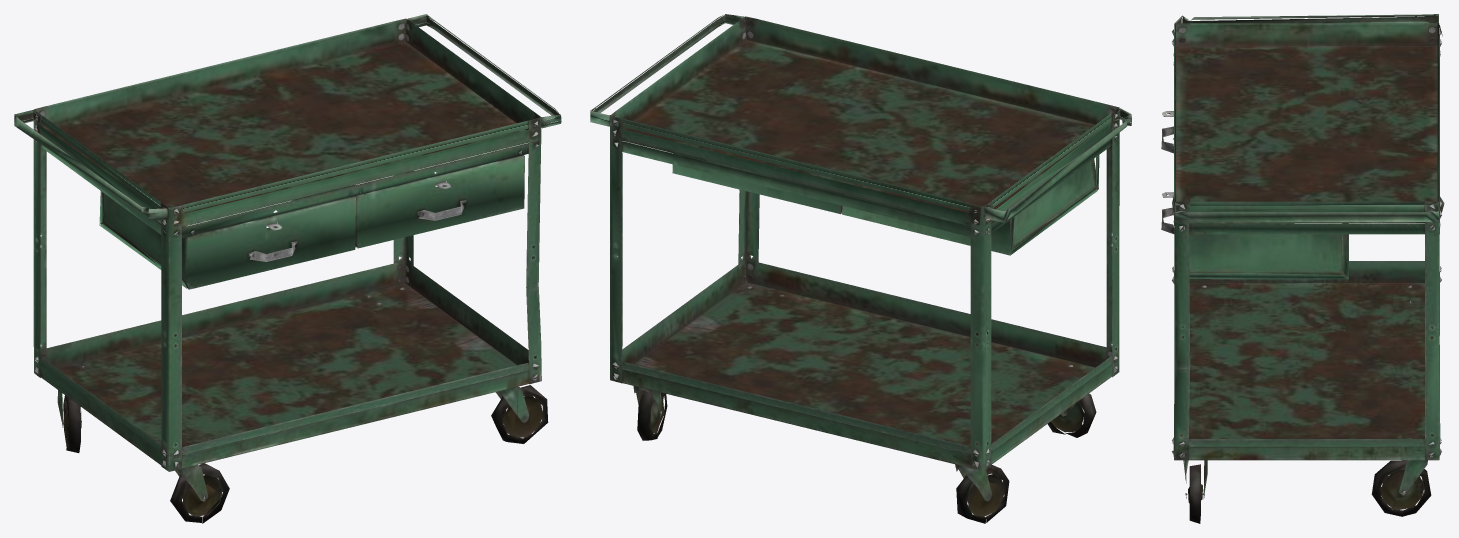
The model's file is tool_cart.glb.
3 views of the same model, side by side, from view 1: azimuth 30°, elevation 25°; view 2: azimuth 150°, elevation 25°; view 3: azimuth 270°, elevation 25° (orthographic). The views are drawn at different scales.
Parts seen in each view (by area): view 1: tool_cart; view 2: tool_cart; view 3: tool_cart.
Boxes of the visible parts, x1,y1,x2,y2 form: tool_cart: (14, 14, 561, 523); tool_cart: (590, 14, 1131, 523); tool_cart: (1161, 14, 1444, 523).
Size of the model in its own units: 1.28 by 0.9677 by 0.7601.
1 material, 1 textured.
